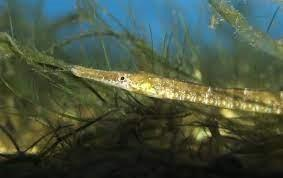Long-Snouted Pipefish: (70, 65, 283, 115)
